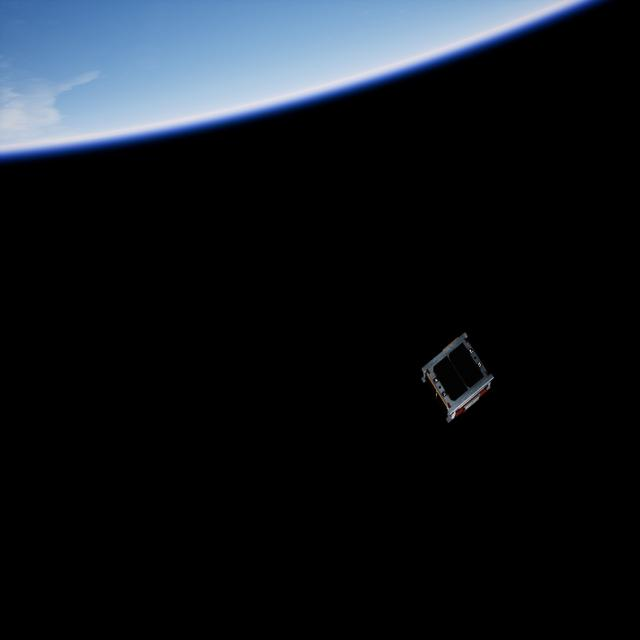satellite: (424, 331, 494, 430)
